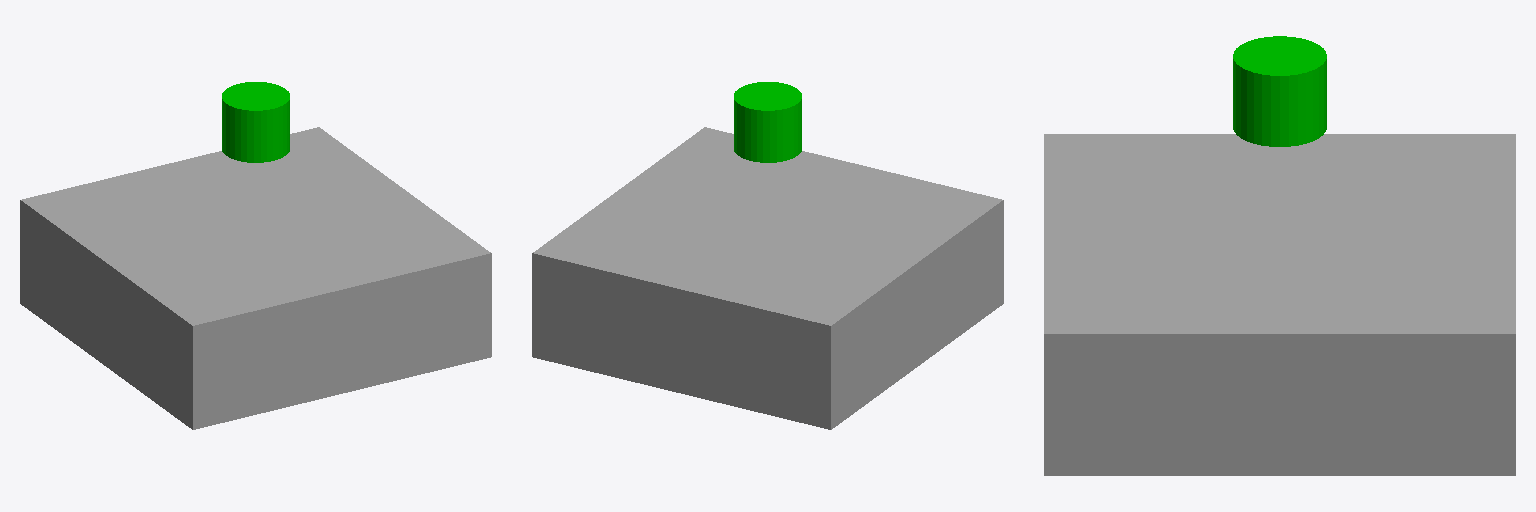
robot.urdf — lidar_robot:
<?xml version="1.0" ?>
<!-- =================================================================================== -->
<!-- |    This document was autogenerated by xacro from lidar.xacro                    | -->
<!-- |    EDITING THIS FILE BY HAND IS NOT RECOMMENDED                                 | -->
<!-- =================================================================================== -->
<robot name="lidar_robot">
  <!-- Robot Base -->
  <link name="base_link">
    <visual>
      <geometry>
        <box size="0.3 0.3 0.1"/>
      </geometry>
      <material name="mat_1">
        <color rgba="0.7 0.7 0.7 1"/>
      </material>
    </visual>
    <collision>
      <geometry>
        <box size="0.3 0.3 0.1"/>
      </geometry>
    </collision>
    <inertial>
      <mass value="1.0"/>
      <inertia ixx="0.01" ixy="0.0" ixz="0.0" iyy="0.01" iyz="0.0" izz="0.01"/>
    </inertial>
  </link>
  <!-- LIDAR Link -->
  <link name="lidar_link">
    <visual>
      <geometry>
        <cylinder length="0.05" radius="0.03"/>
      </geometry>
      <material name="mat_1">
        <color rgba="0.0 0.8 0.0 1.0"/>
      </material>
    </visual>
    <collision>
      <geometry>
        <cylinder length="0.05" radius="0.03"/>
      </geometry>
    </collision>
    <origin rpy="0 0 0" xyz="0 0 0.15"/>
  </link>
  <!-- LIDAR Joint (fixed) -->
  <joint name="lidar_joint" type="fixed">
    <parent link="base_link"/>
    <child link="lidar_link"/>
    <origin rpy="0 0 0" xyz="0 0 0.15"/>
  </joint>
  <!-- Gazebo Simulation Tag for 2D LIDAR -->
  <gazebo reference="lidar_link">
    <sensor name="lidar" type="gpu_lidar">
      <pose>0 0 0 0 0 0</pose>
      <lidar>
        <scan>
          <horizontal>
            <samples>720</samples>
            <resolution>1</resolution>
            <min_angle>-1.5708</min_angle>
            <!-- -90 deg -->
            <max_angle>1.5708</max_angle>
            <!-- +90 deg -->
          </horizontal>
        </scan>
        <range>
          <min>0.12</min>
          <max>8.0</max>
          <resolution>0.01</resolution>
        </range>
      </lidar>
      <update_rate>20</update_rate>
      <visualize>true</visualize>
    </sensor>
  </gazebo>
</robot>

--- Facts derived from the render (not from the file) ---
The picture shows the robot from 3 angles, left to right: view 1: azimuth 30°, elevation 25°; view 2: azimuth 150°, elevation 25°; view 3: azimuth 270°, elevation 25°; orthographic projection.
Robot: lidar_robot — 2 links, 1 joints (1 fixed); root link base_link; default pose: every joint at zero.
Links seen in each view (by area): view 1: base_link, lidar_link; view 2: base_link, lidar_link; view 3: base_link, lidar_link.
Link boxes in pixels (x1,y1,x2,y2): base_link: (20,127,491,429); lidar_link: (222,82,289,162); base_link: (532,127,1003,429); lidar_link: (734,82,801,162); base_link: (1044,134,1515,475); lidar_link: (1233,36,1326,146).
Bounding box of the posed robot: 0.3 × 0.3 × 0.225 m (x, y, z).
Geometry: primitives only (box / cylinder / sphere), no mesh files.